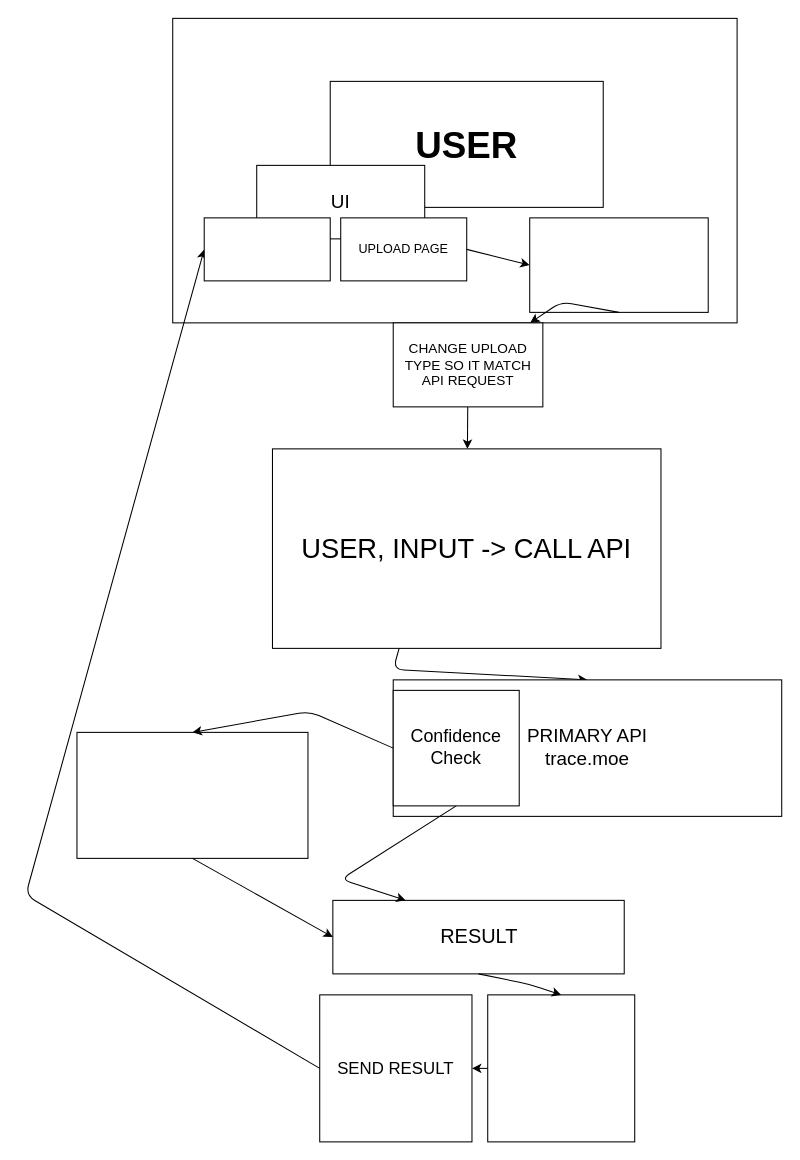
Some shapes in this 800 by 1160 pixel diagram are drawn without their labels. The shapes that lost their labels are listed below. From the top down, each one's centre as x and y in pixels, then its label:
At pixel 266 249: "RESULT PAGE".
At pixel 618 264: "UPLOAD".
At pixel 192 794: "Other API Checks".
At pixel 561 1068: "MAKE DECISION".
